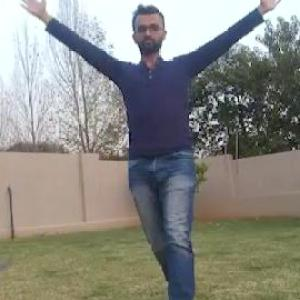takeoff: (40, 0, 261, 299)
